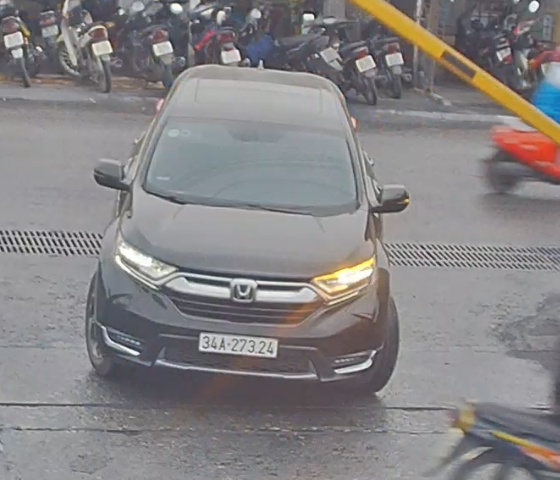vehicle plate: (193, 324, 283, 361)
